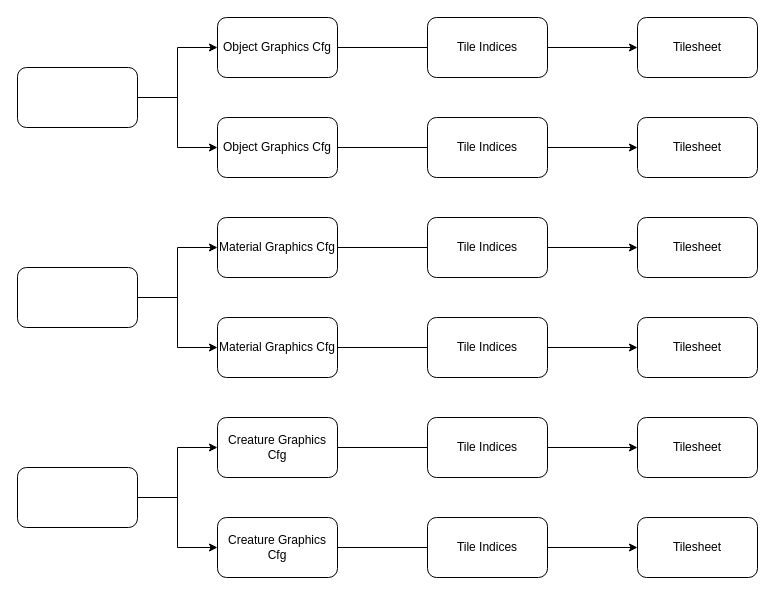
Some shapes in this 775 by 595 pixel diagram are drawn without their labels. The shapes that lost their labels are listed below. From the top down, each one's centre as x and y in pixels, then its label:
At (77,97): "Object Behavoir Cfg".
At (77,297): "Material Cfg".
At (77,497): "Creature Cfg".
